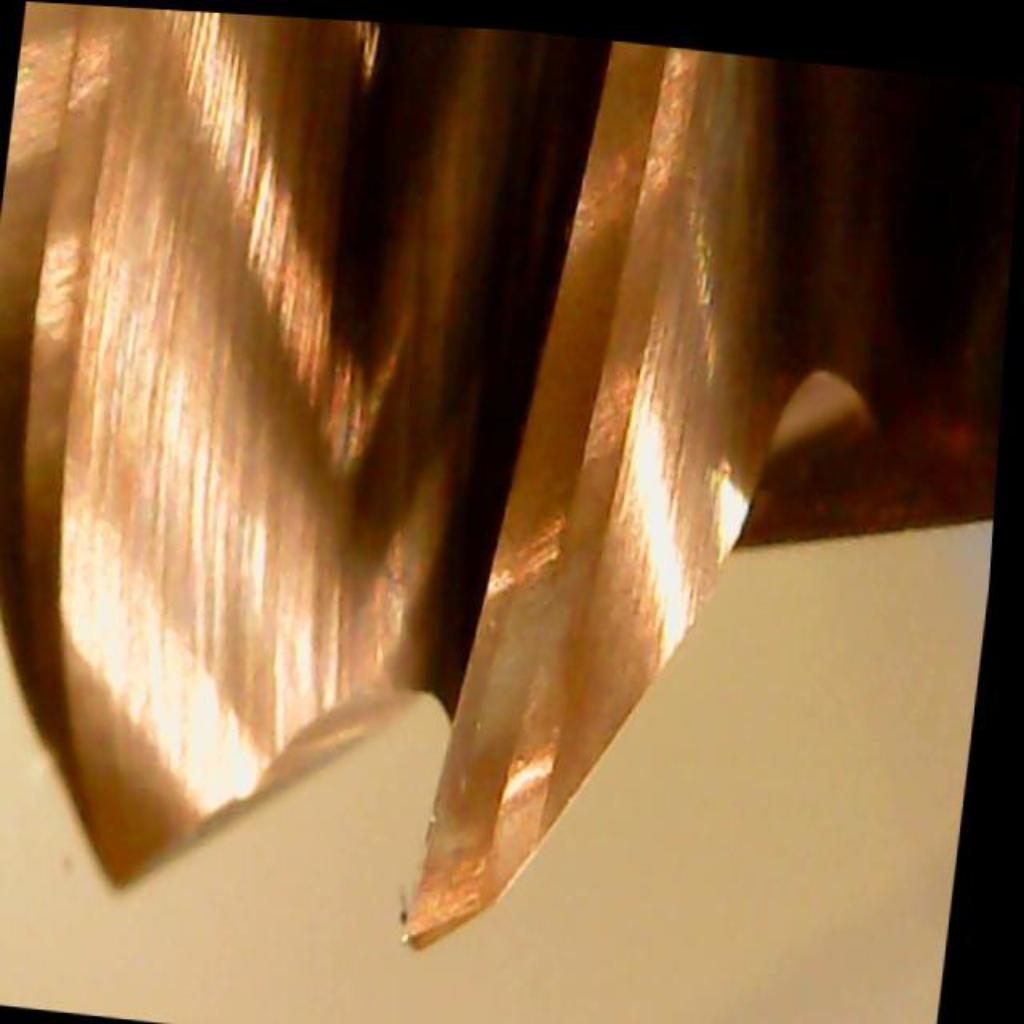Tool-wear-class-0: (388, 363, 677, 972)
